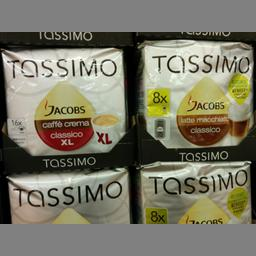coffee: (0, 46, 125, 154), (136, 40, 254, 147), (130, 158, 252, 220), (4, 166, 130, 220)
